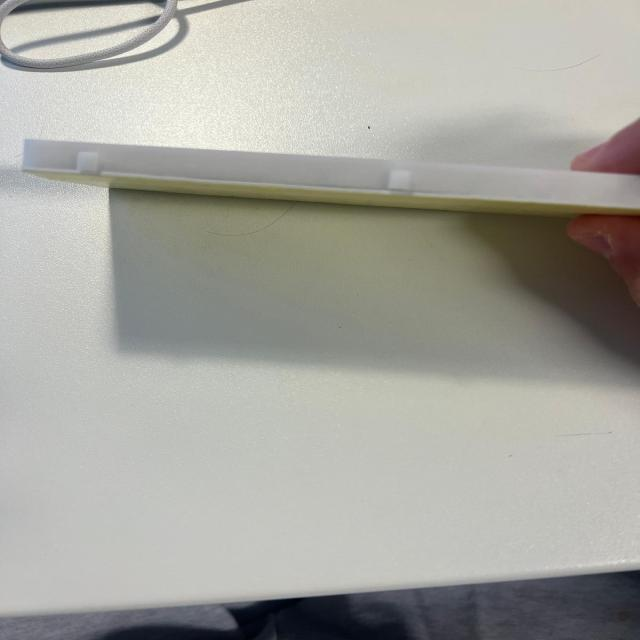BreadBoard: (8, 134, 637, 223)
